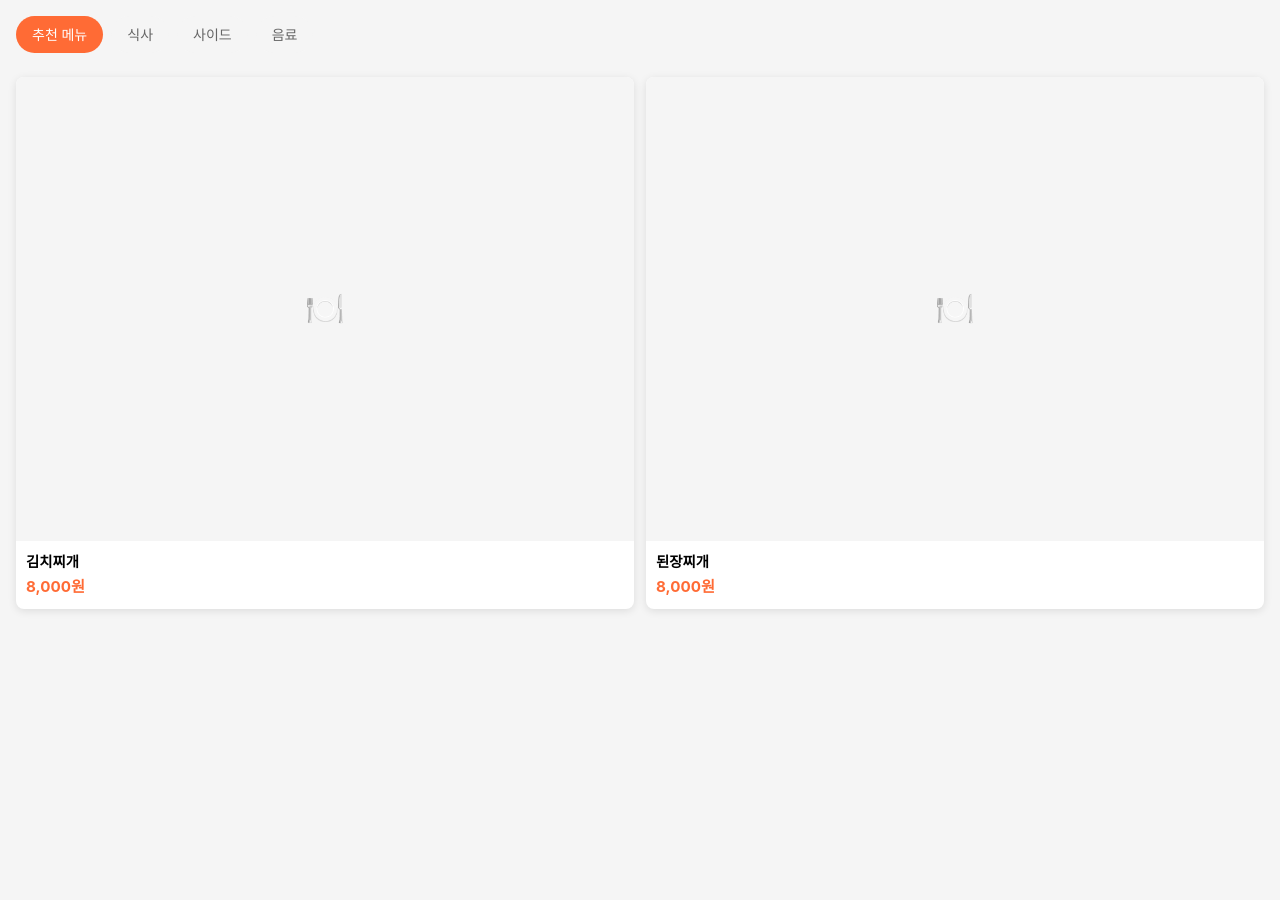
it: US-201: MenuPage — 카테고리별 메뉴 조회 › 카테고리 탭 클릭 시 해당 카테고리 메뉴만 표시된다
The width and height of the screenshot is (1280, 900).
Step 1. Click the button "음료" → (285, 34), box 256,16 -> 314,53
(page scrolled)
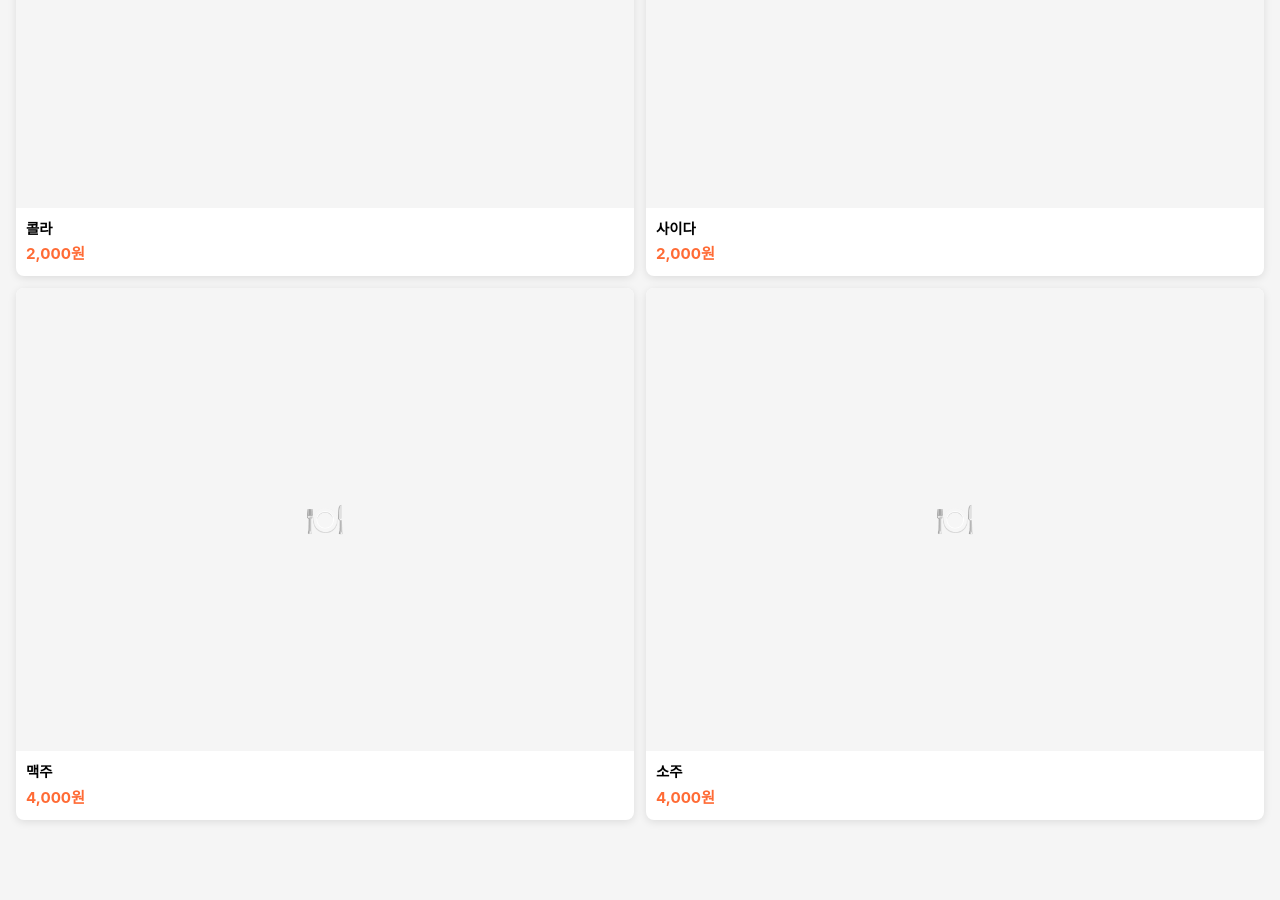
Expected: the text "콜라" is shown, 26,220 -> 52,236
Expected: the text "맥주" is shown, 26,763 -> 52,780
Expected: the button "김치찌개" is gone
